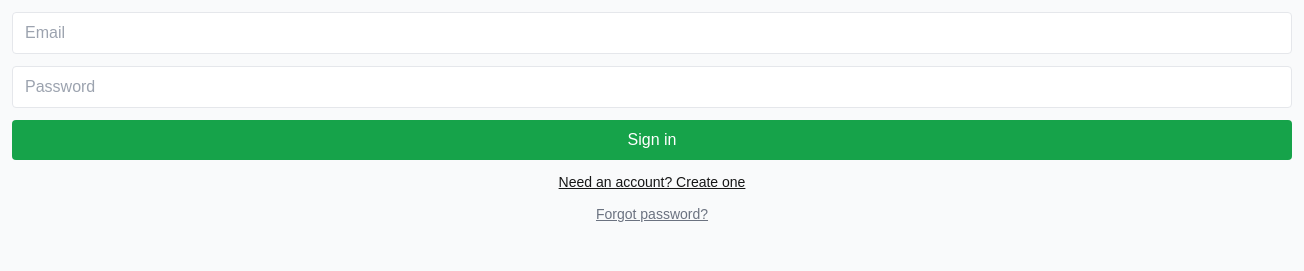
Scenario: AuthForm › shows the friendly error message when sign-in fails
The width and height of the screenshot is (1304, 271).
Type "jane@example.com" into the field with placeholder "Email".
click(652, 33); type("jane@example.com")  # box x1=12 y1=12 x2=1292 y2=54
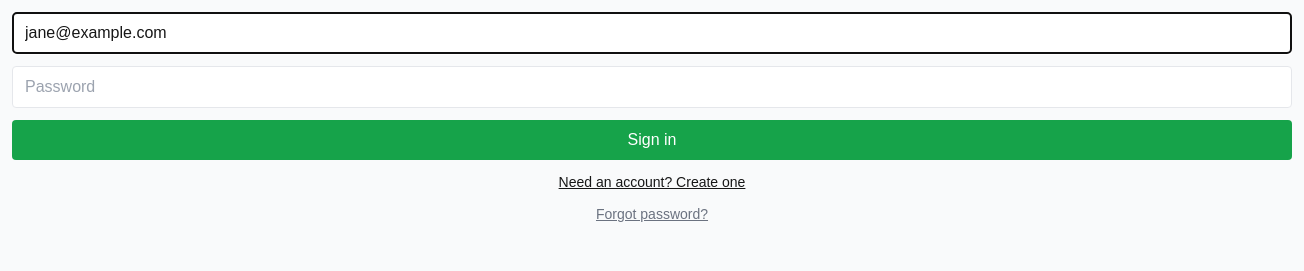
Type "wrong-password" into the password field with placeholder "Password".
click(652, 87); type("wrong-password")  # box x1=12 y1=66 x2=1292 y2=108
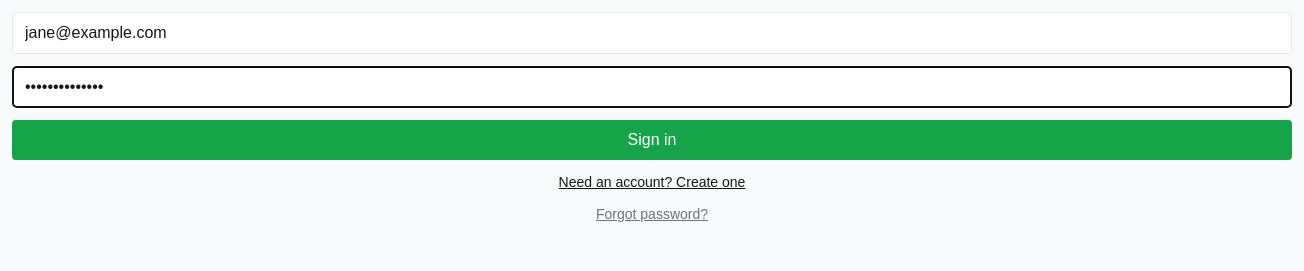
Click the button "Sign in".
click(652, 140)  # box x1=12 y1=120 x2=1292 y2=160
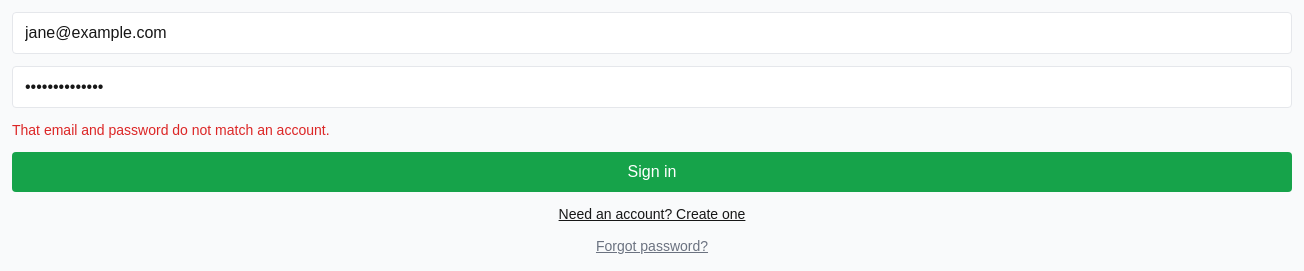
expect the text "That email and password do not match an account." is shown: met, box x1=12 y1=122 x2=330 y2=138
